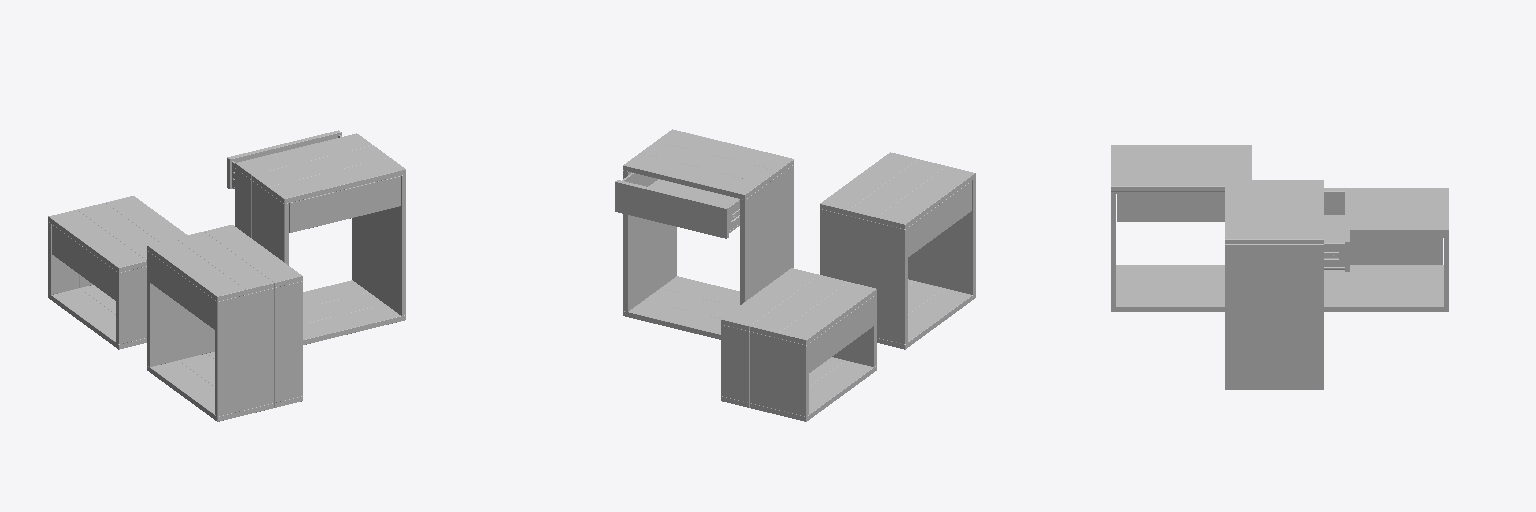
File: Bedside_Drawer.obj
3 views of the same model, side by side, from view 1: azimuth 30°, elevation 25°; view 2: azimuth 150°, elevation 25°; view 3: azimuth 270°, elevation 25° (orthographic).
Parts seen in each view (by area): view 1: Box078, Box067, Box084, Box077, Box036, Box085, Box102, Box079, Box045, Box090, Box086, Box074 (+20 smaller); view 2: Box025, Box079, Box031, Box085, Box102, Box078, Box098, Box042, Box103, Box074, Box095, Box086 (+23 smaller); view 3: Box043, Box044, Box045, Box068, Box091, Box086, Box100, Box031, Box035, Box036, Box083, Box074 (+10 smaller).
Boxes of the visible parts, x1,y1,x2,y2 form: Box078: [215, 295, 245, 416]; Box067: [289, 176, 400, 232]; Box084: [274, 281, 302, 402]; Box077: [246, 288, 273, 409]; Box036: [268, 158, 405, 203]; Box085: [147, 238, 245, 301]; Box102: [48, 210, 146, 272]; Box079: [147, 251, 177, 366]; Box045: [385, 175, 405, 315]; Box090: [116, 266, 146, 343]; Box086: [204, 225, 302, 287]; Box074: [176, 232, 273, 294]; Box025: [615, 180, 728, 238]; Box079: [877, 223, 907, 343]; Box031: [623, 153, 760, 199]; Box085: [877, 166, 975, 228]; Box102: [778, 282, 876, 344]; Box078: [944, 178, 975, 294]; Box098: [778, 339, 808, 416]; Box042: [740, 189, 760, 304]; Box103: [721, 268, 818, 330]; Box074: [848, 159, 946, 222]; Box095: [750, 275, 847, 337]; Box086: [820, 152, 917, 215]; Box043: [1291, 244, 1323, 384]; Box044: [1258, 244, 1290, 384]; Box045: [1225, 244, 1257, 384]; Box068: [1117, 192, 1224, 221]; Box091: [1350, 235, 1442, 264]; Box086: [1111, 173, 1251, 191]; Box100: [1324, 293, 1448, 311]; Box031: [1291, 180, 1323, 243]; Box035: [1258, 180, 1290, 243]; Box036: [1225, 180, 1257, 243]; Box083: [1111, 293, 1224, 311]; Box074: [1111, 159, 1251, 172].
Bounding box in the file's own units: 101 × 60 × 120.